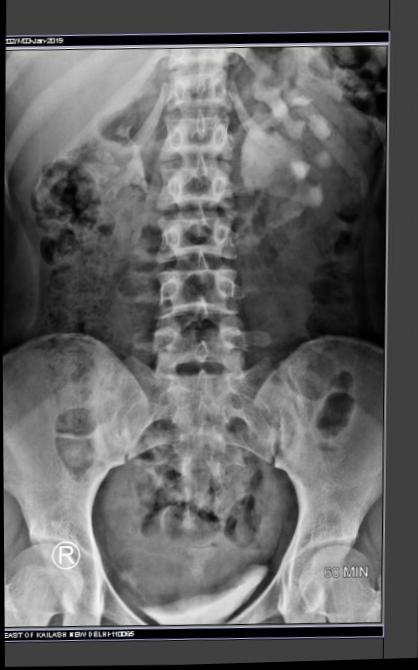vertebrae: (156, 111, 238, 167)
